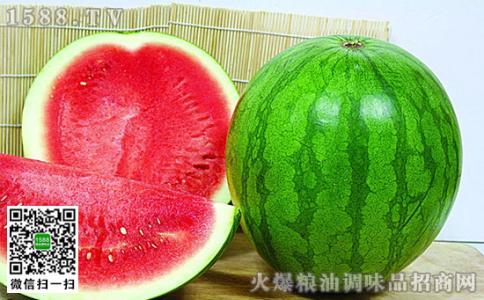watermelon: (217, 28, 458, 290)
